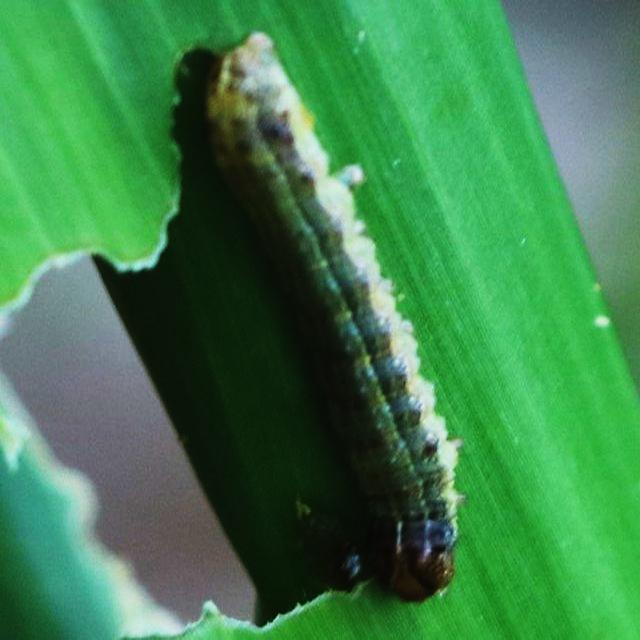gusano_cogollero: (204, 24, 462, 610)
